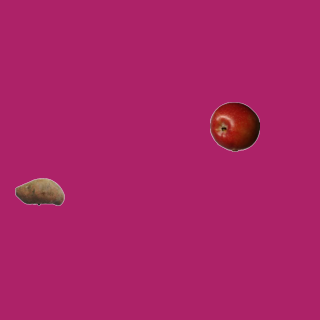Apple Braeburn: (209, 101, 259, 151)
Potato Sweet: (14, 166, 64, 216)
